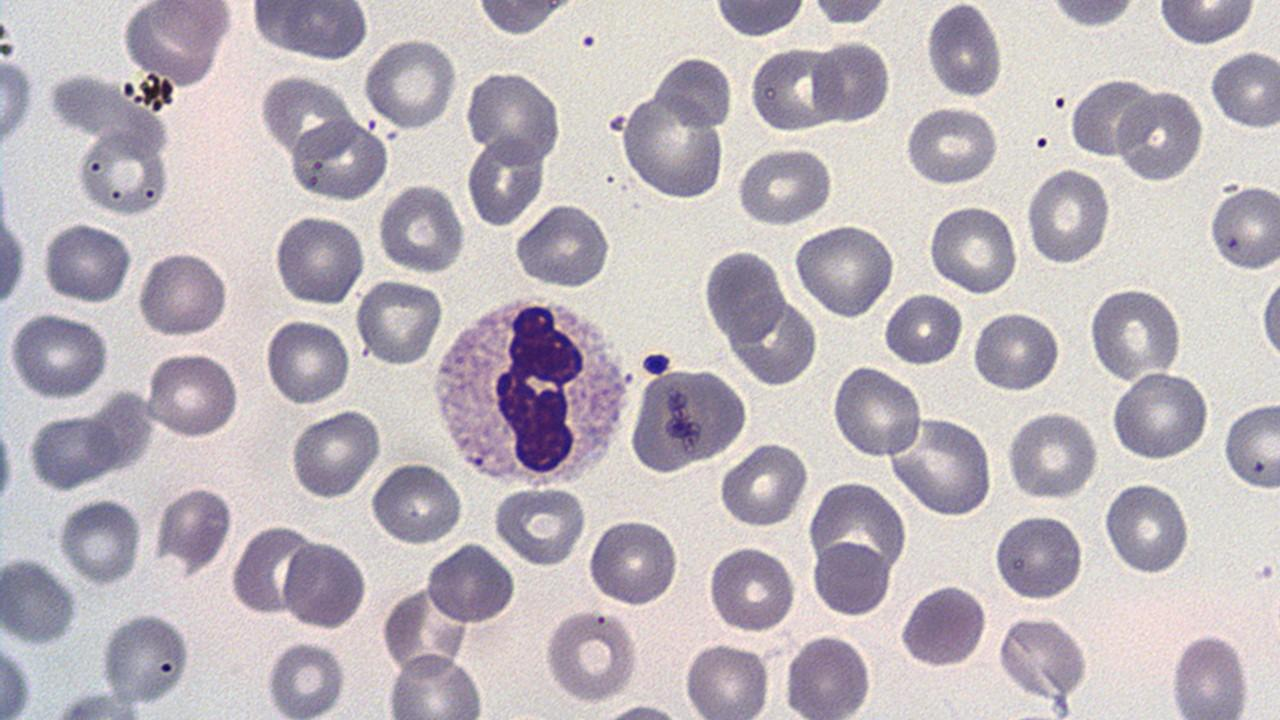Platelets: (0, 415, 18, 512), (640, 352, 674, 377), (366, 117, 379, 132)
RBC: (626, 361, 746, 475), (620, 93, 726, 202), (886, 416, 994, 517), (791, 222, 897, 320), (118, 0, 232, 88), (1085, 284, 1185, 383), (542, 606, 639, 706), (464, 68, 564, 164), (5, 311, 111, 400), (99, 608, 192, 708), (362, 35, 459, 130), (830, 362, 924, 460), (1110, 369, 1210, 461), (700, 243, 786, 348), (273, 211, 366, 308), (73, 128, 173, 218), (286, 406, 379, 502), (144, 348, 241, 440), (512, 202, 614, 289), (926, 202, 1020, 296), (746, 42, 842, 134), (586, 516, 682, 608), (1113, 86, 1203, 184), (1006, 409, 1100, 502), (992, 511, 1086, 604), (380, 582, 469, 680), (1025, 165, 1111, 266), (287, 117, 389, 202), (1103, 479, 1191, 577), (994, 612, 1089, 702), (734, 144, 836, 227), (376, 180, 466, 274), (136, 250, 231, 339), (368, 460, 465, 547), (704, 543, 796, 634), (354, 275, 444, 368), (900, 105, 1001, 187), (261, 316, 351, 408), (280, 537, 366, 633), (493, 482, 588, 568), (720, 440, 810, 530), (896, 581, 988, 669), (783, 631, 875, 718), (56, 495, 144, 585), (970, 307, 1061, 394), (926, 0, 1004, 101), (232, 524, 316, 617), (40, 222, 133, 305), (466, 135, 546, 231), (1067, 74, 1155, 160), (1167, 628, 1253, 716), (427, 540, 514, 626), (154, 483, 234, 576), (250, 0, 368, 63), (0, 554, 80, 646), (812, 34, 892, 126), (28, 411, 121, 490), (682, 639, 772, 718), (262, 636, 349, 717), (382, 652, 488, 717), (880, 288, 964, 368), (1207, 181, 1279, 274), (1208, 45, 1280, 133), (656, 51, 734, 131), (811, 540, 888, 618), (1221, 399, 1279, 491), (1156, 0, 1258, 48), (1, 169, 29, 332), (710, 1, 809, 40), (472, 1, 576, 38), (0, 48, 36, 151), (0, 638, 37, 718), (1045, 0, 1139, 29), (1255, 266, 1279, 373), (806, 1, 892, 27), (0, 412, 19, 513)
WBC: (426, 284, 639, 487)
